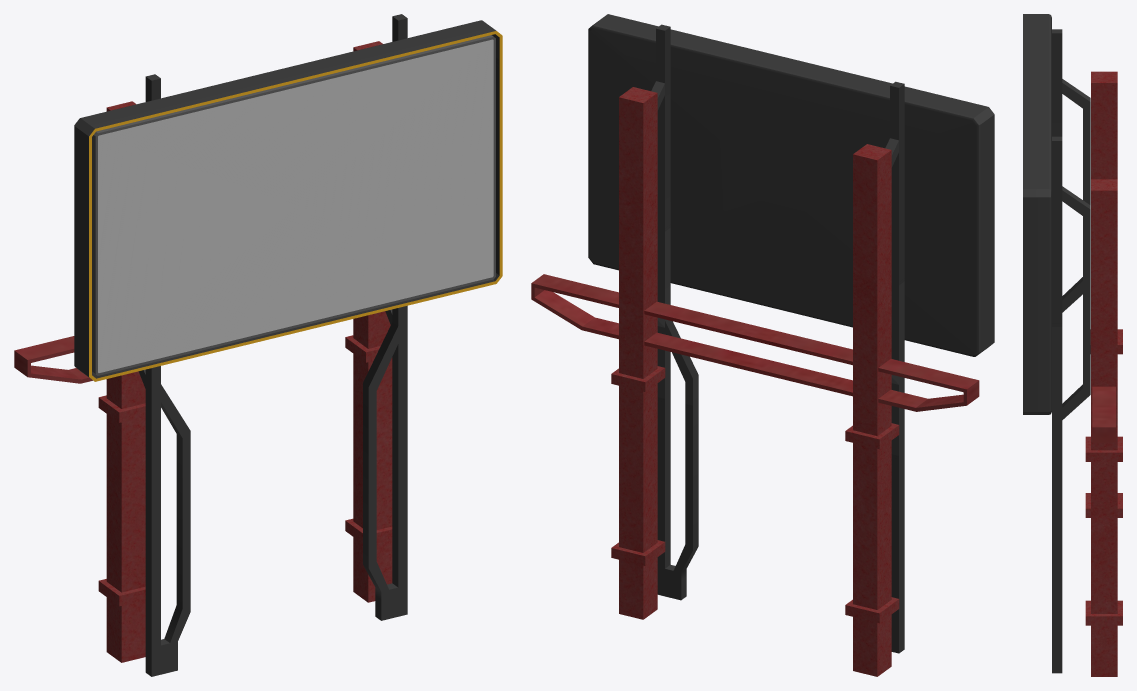
Rendered from BILL BOARD FINAL.fbx.
3 renders of one model, left to right at view 1: azimuth 30°, elevation 25°; view 2: azimuth 150°, elevation 25°; view 3: azimuth 270°, elevation 25°, orthographic. The views are drawn at different scales.
Visible parts, largest first — view 1: polySurface4, pCube2, polySurface3; view 2: pCube2; view 3: pCube2.
Part boxes in pixels (x1=…): polySurface4: x1=98, y1=39, x2=493, y2=372; pCube2: x1=14, y1=14, x2=502, y2=676; polySurface3: x1=92, y1=35, x2=495, y2=375; pCube2: x1=531, y1=14, x2=994, y2=676; pCube2: x1=1023, y1=14, x2=1122, y2=676.
Bounding box in the file's own units: 63.48 × 78.79 × 13.39.
5 materials, 2 textured.
